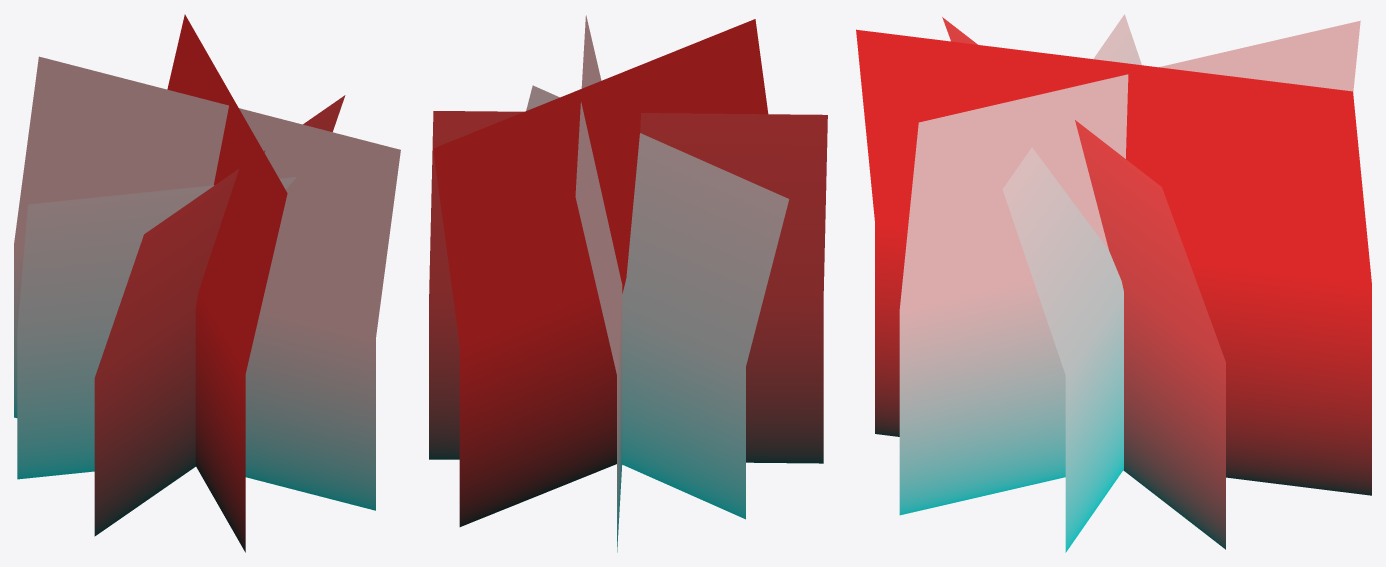
File: EA03_Plant_Meadow_01d.fbx
The picture shows the model from 3 angles, left to right: view 1: azimuth 30°, elevation 25°; view 2: azimuth 150°, elevation 25°; view 3: azimuth 270°, elevation 25°; orthographic projection. The views are drawn at different scales.
Visible parts, largest first — view 1: EA03_Plant_Meadow_01d_LOD0; view 2: EA03_Plant_Meadow_01d_LOD0; view 3: EA03_Plant_Meadow_01d_LOD0.
Part boxes in pixels (x1,y1,x2,y2): EA03_Plant_Meadow_01d_LOD0: (14,14,400,552); EA03_Plant_Meadow_01d_LOD0: (429,15,827,552); EA03_Plant_Meadow_01d_LOD0: (856,14,1371,552).
Size of what is drawn, in the model's own units: 1.56 by 1.6 by 1.76.
